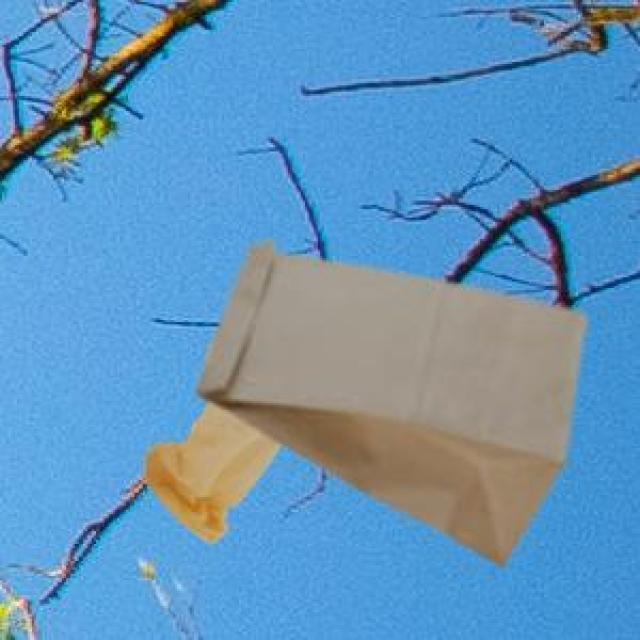paper: (194, 239, 580, 561)
